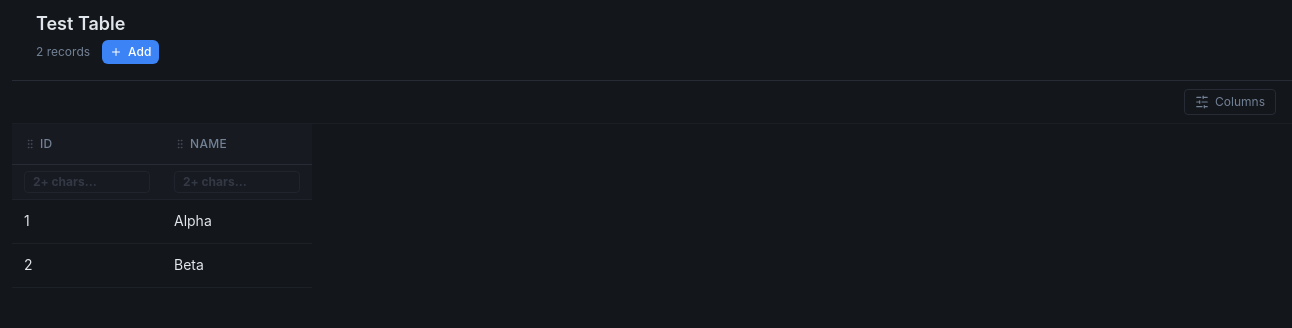
Test: TablePage row interaction › clicking a row opens its modal
Check: the text "2 records" is shown, box [36,44,90,60]
// Click on first data cell (td) — event bubbles to the tr onClick handler
Click the cell "1" at [27, 220], box [12,199,162,243]
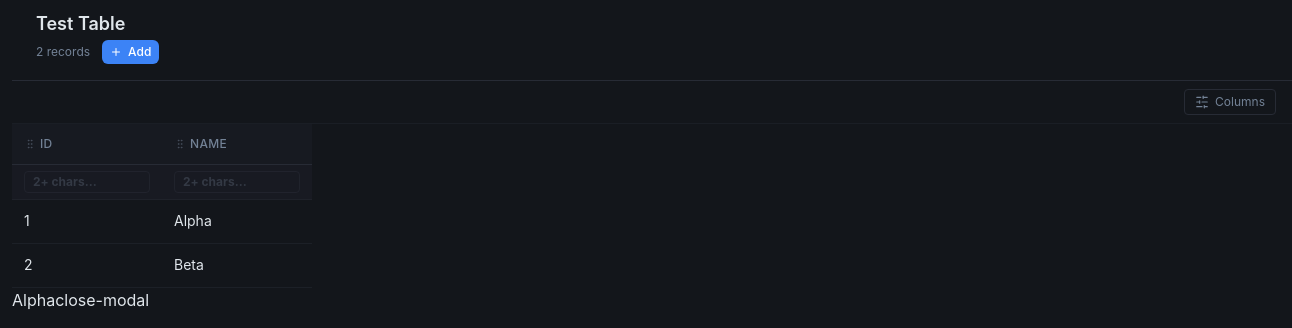
Check: the element with test id "modal" is shown, box [12,288,149,312]
